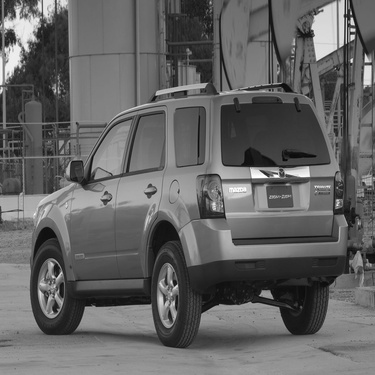car: (19, 78, 354, 349), (33, 119, 78, 169), (1, 117, 31, 164)
